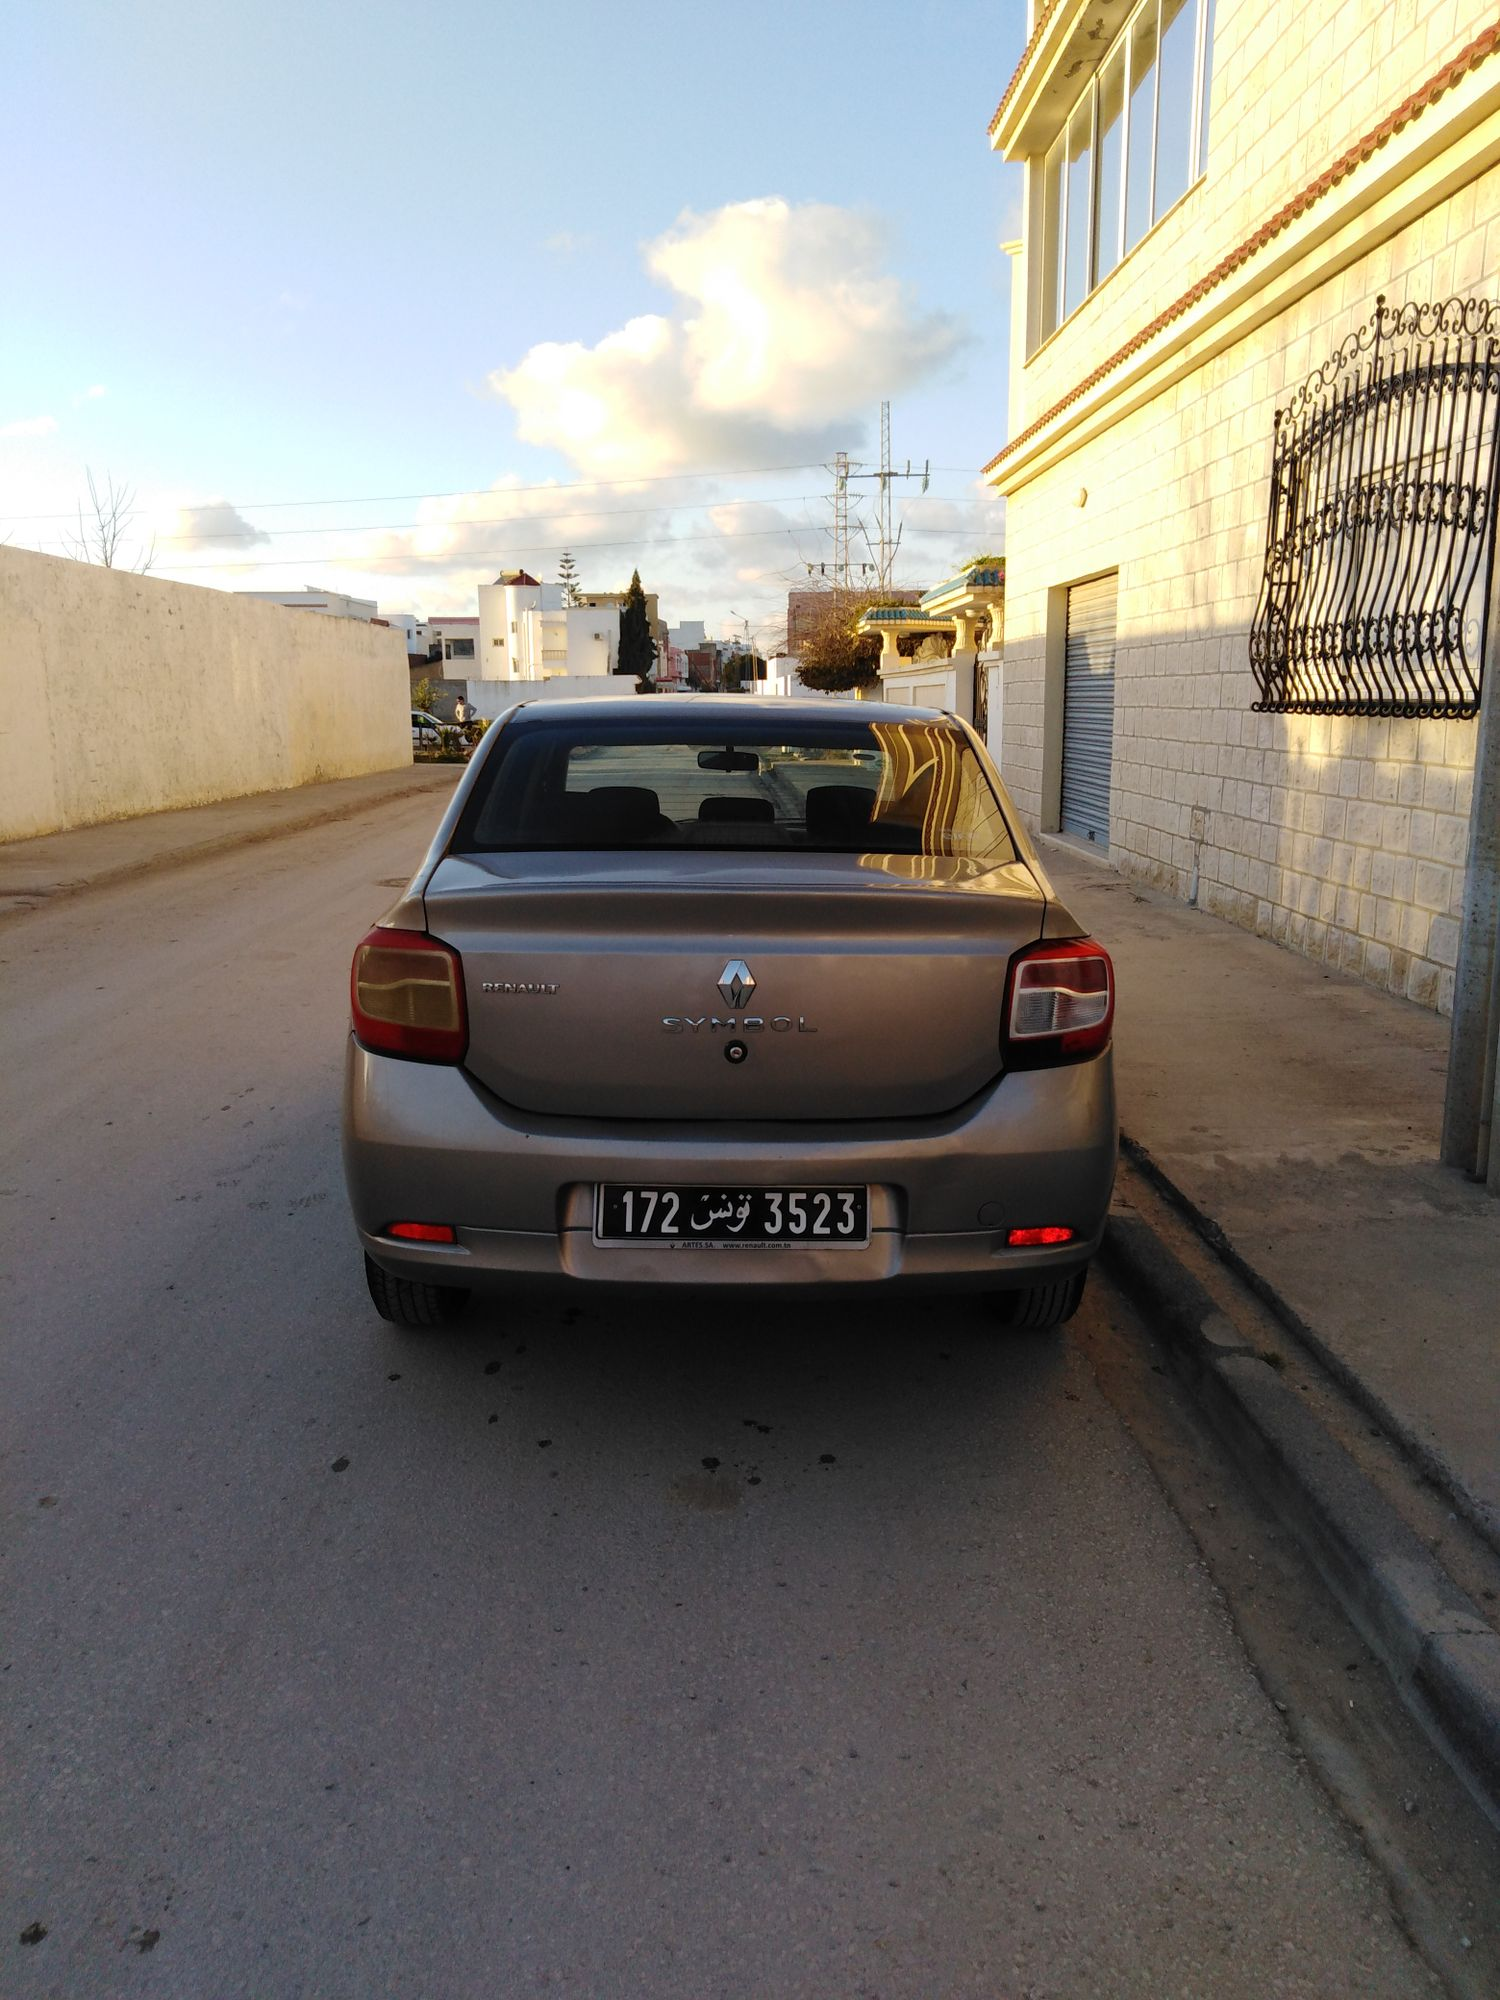LP: (593, 1182, 870, 1248)
